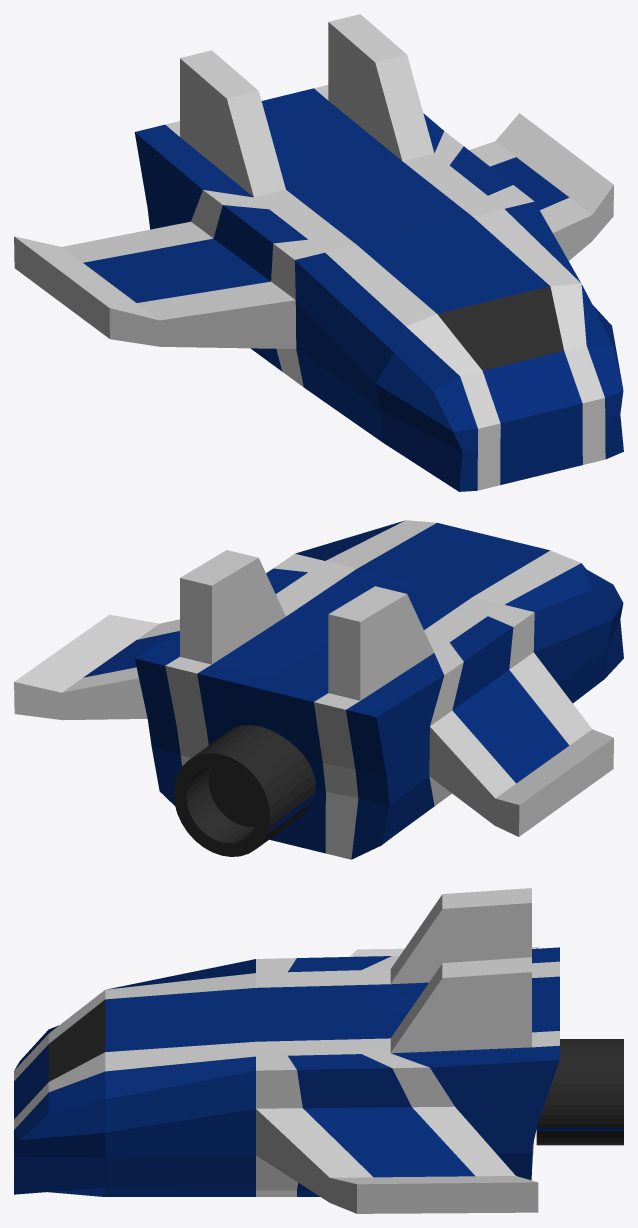
The model's file is blockyship1.fbx.
3 views of the same model, one above another, from view 1: azimuth 30°, elevation 25°; view 2: azimuth 150°, elevation 25°; view 3: azimuth 270°, elevation 25° (orthographic). The views are drawn at different scales.
Visible parts, largest first — view 1: Cube; view 2: Cube; view 3: Cube.
Boxes of the visible parts, left/top/right/bottom form: Cube: left=14, top=14, right=623, bottom=491; Cube: left=14, top=520, right=623, bottom=859; Cube: left=14, top=888, right=623, bottom=1213.
Size of the model in its own units: 418 by 190 by 458.
